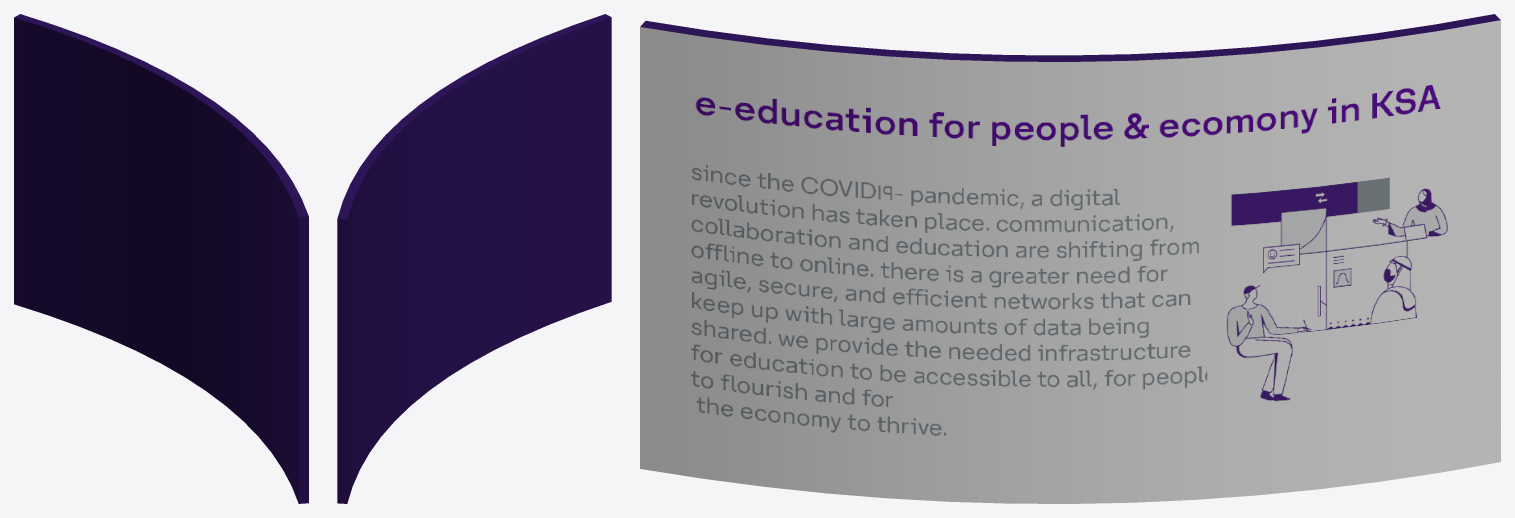
File: panel.fbx
3 renders of one model, left to right at view 1: azimuth 30°, elevation 25°; view 2: azimuth 150°, elevation 25°; view 3: azimuth 270°, elevation 25°, orthographic. The views are drawn at different scales.
Parts seen in each view (by area): view 1: Line004; view 2: Line004; view 3: Line004.
Part boxes in pixels (box(x1,y1,x2,y2)): Line004: box(14, 14, 308, 503); Line004: box(337, 14, 611, 503); Line004: box(640, 14, 1500, 503).
Bounding box in the file's own units: 17.29 × 74.23 × 131.
Materials: 2 (1 with a texture image).
